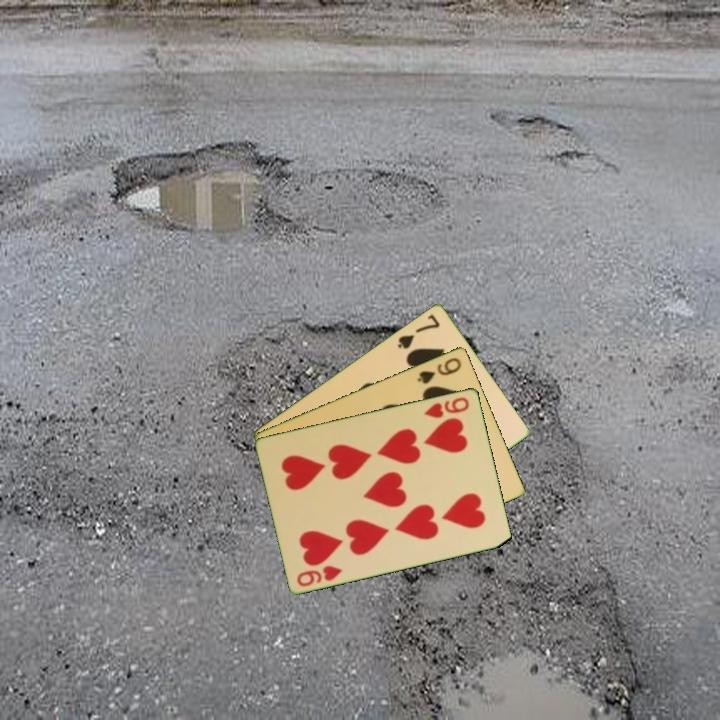7s: (394, 310, 443, 352)
9h: (293, 561, 345, 589), (421, 393, 472, 421)
9s: (413, 354, 464, 387)
